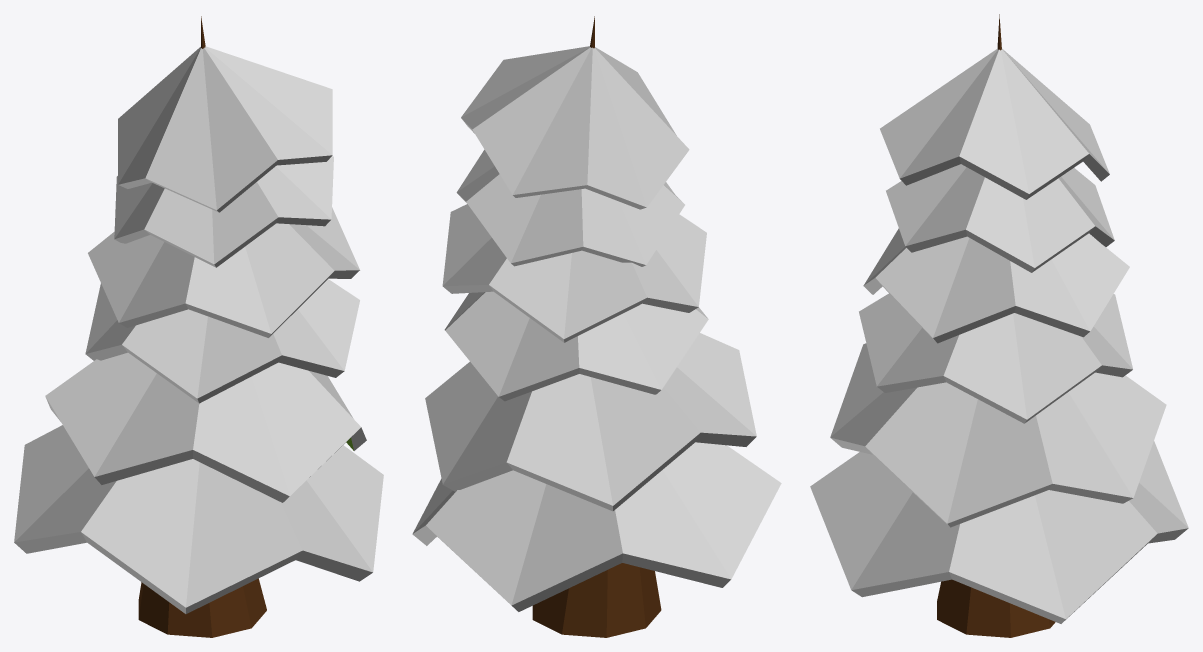
File: Tree_01.fbx
The picture shows the model from 3 angles, left to right: view 1: azimuth 30°, elevation 25°; view 2: azimuth 150°, elevation 25°; view 3: azimuth 270°, elevation 25°; orthographic projection.
Parts seen in each view (by area): view 1: Tree_01; view 2: Tree_01; view 3: Tree_01.
Part boxes in pixels (x1,y1,x2,y2): Tree_01: [14, 16, 383, 637]; Tree_01: [412, 16, 781, 637]; Tree_01: [810, 14, 1188, 637].
Size of the model in its own units: 195 by 347 by 200.
